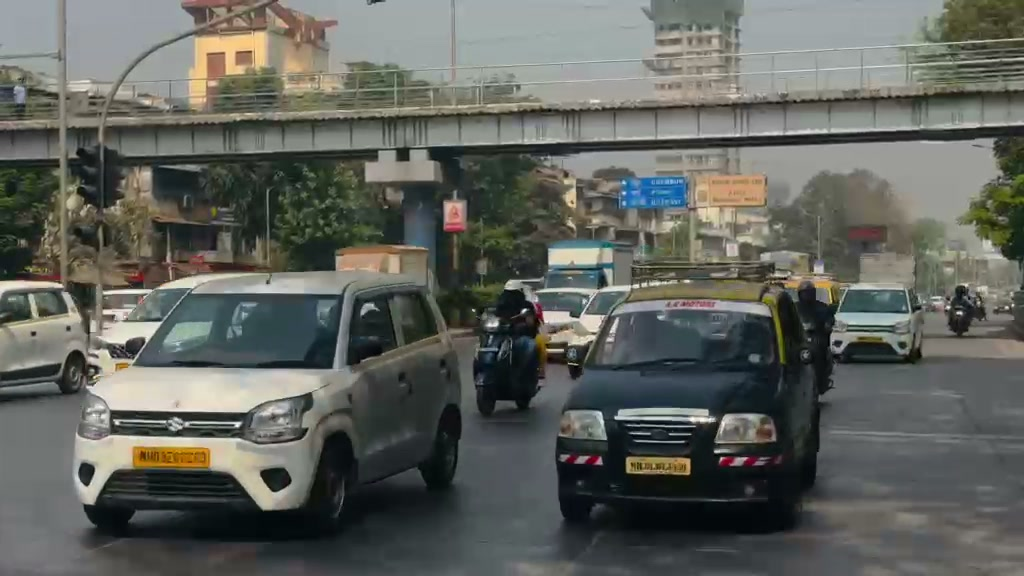car: (72, 267, 464, 537), (554, 277, 823, 530), (0, 279, 94, 395), (829, 283, 925, 364), (560, 285, 633, 375), (537, 289, 592, 333)
motorcycle: (472, 311, 541, 416), (947, 288, 980, 336), (947, 298, 976, 336)
pedestrian: (796, 279, 836, 396), (949, 283, 980, 328)
truck: (542, 239, 634, 292)
